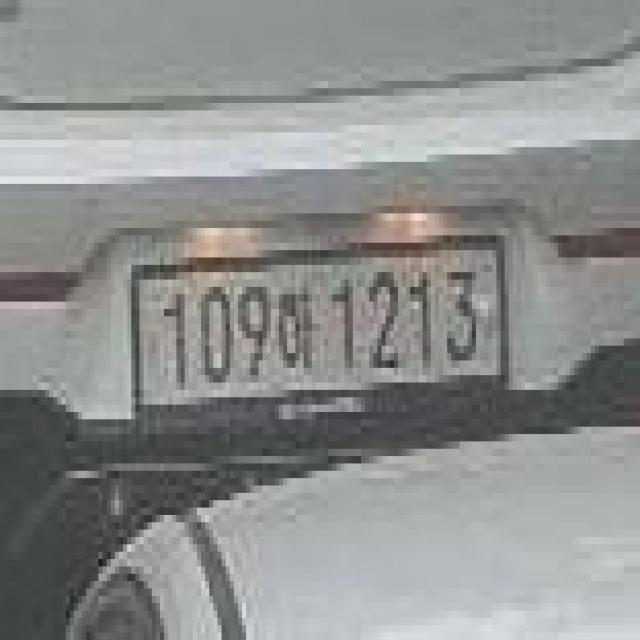illegal_plate: (128, 238, 517, 426)
